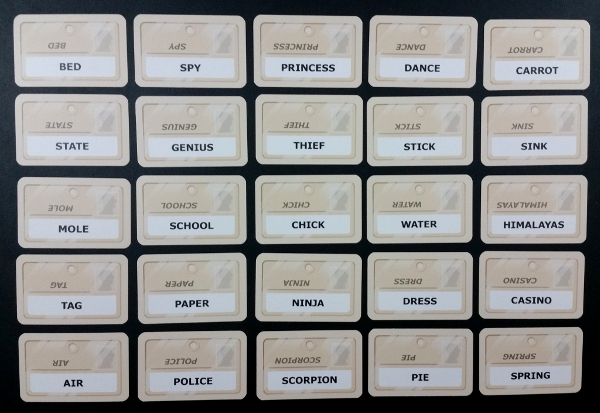A: (66, 299, 75, 314), (550, 219, 558, 233), (68, 141, 77, 153), (181, 298, 188, 312), (522, 65, 530, 77), (410, 219, 418, 231), (537, 220, 545, 232), (317, 298, 325, 310), (411, 62, 418, 75), (524, 219, 531, 232), (517, 295, 525, 306), (62, 377, 70, 388)
